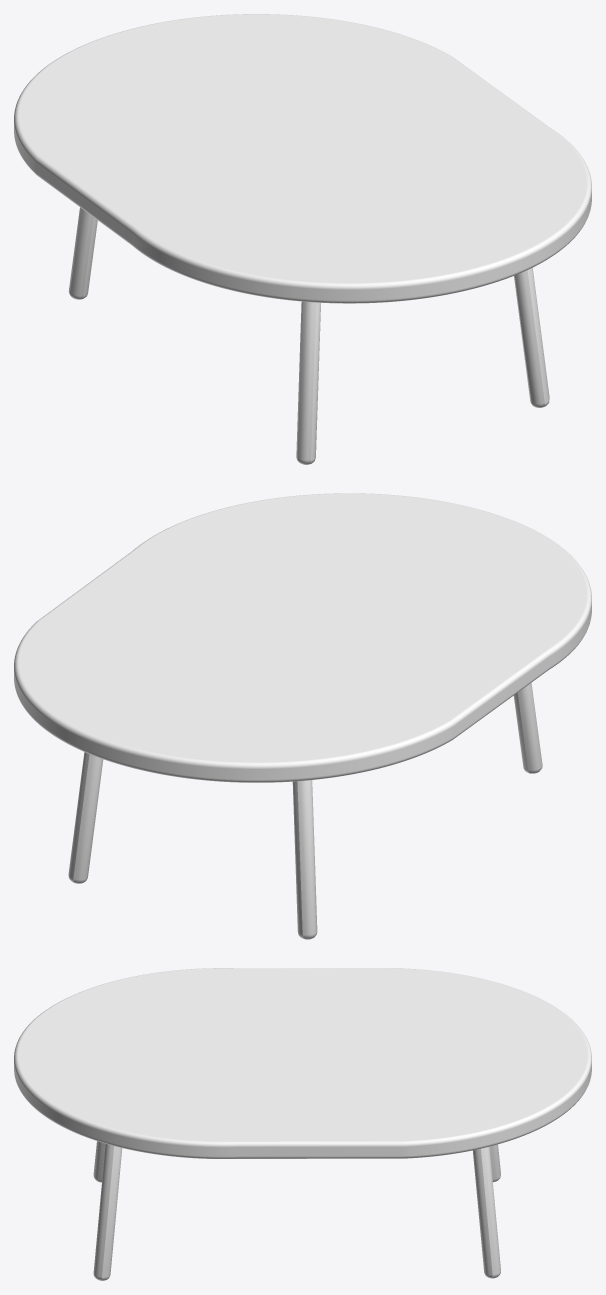
Rendered from Tisch.fbx.
3 views of the same model, one above another, from view 1: azimuth 30°, elevation 25°; view 2: azimuth 150°, elevation 25°; view 3: azimuth 270°, elevation 25° (orthographic). The views are drawn at different scales.
Visible parts, largest first — view 1: Tisch; view 2: Tisch; view 3: Tisch.
Part boxes in pixels (x1,y1,x2,y2): Tisch: [14, 14, 591, 464]; Tisch: [14, 493, 591, 939]; Tisch: [14, 968, 591, 1280].
Bounding box in the file's own units: 200 × 91.94 × 276.
